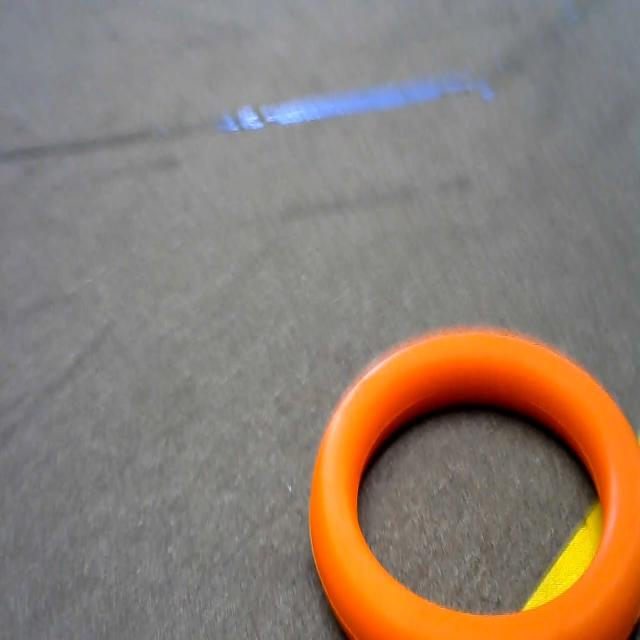note: (301, 312, 640, 640)
